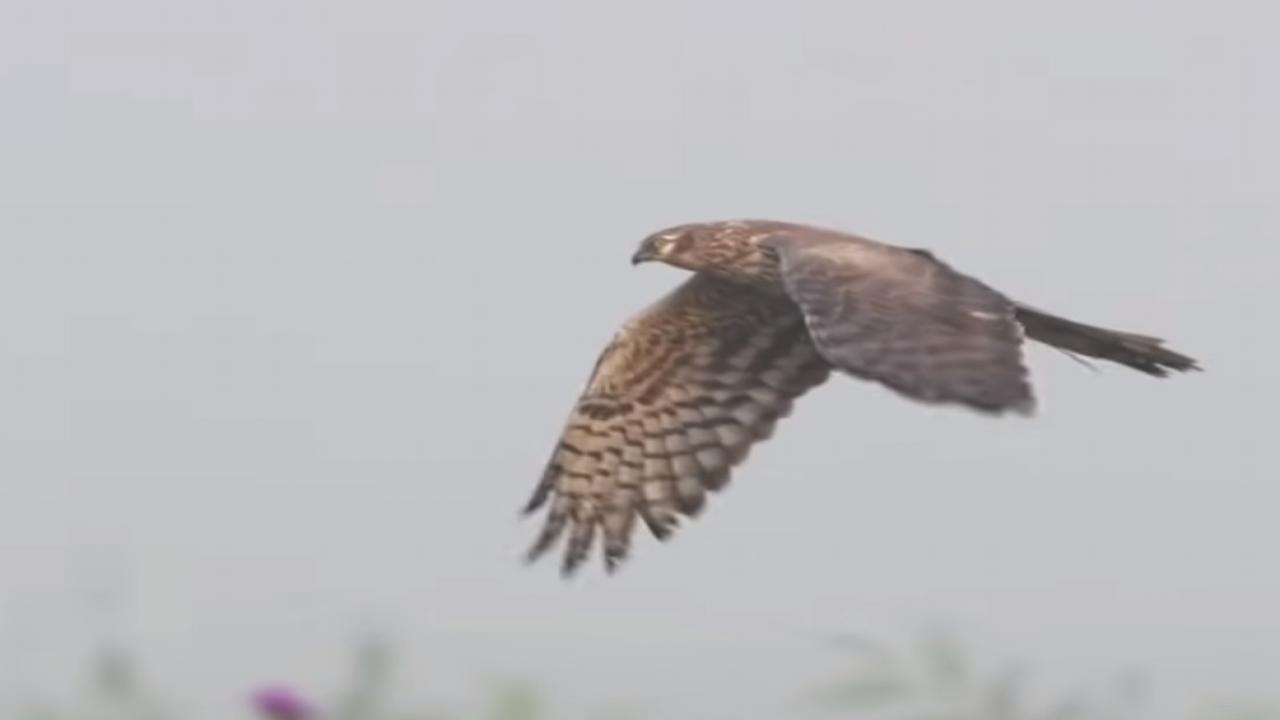Bird: (510, 209, 1216, 589)
